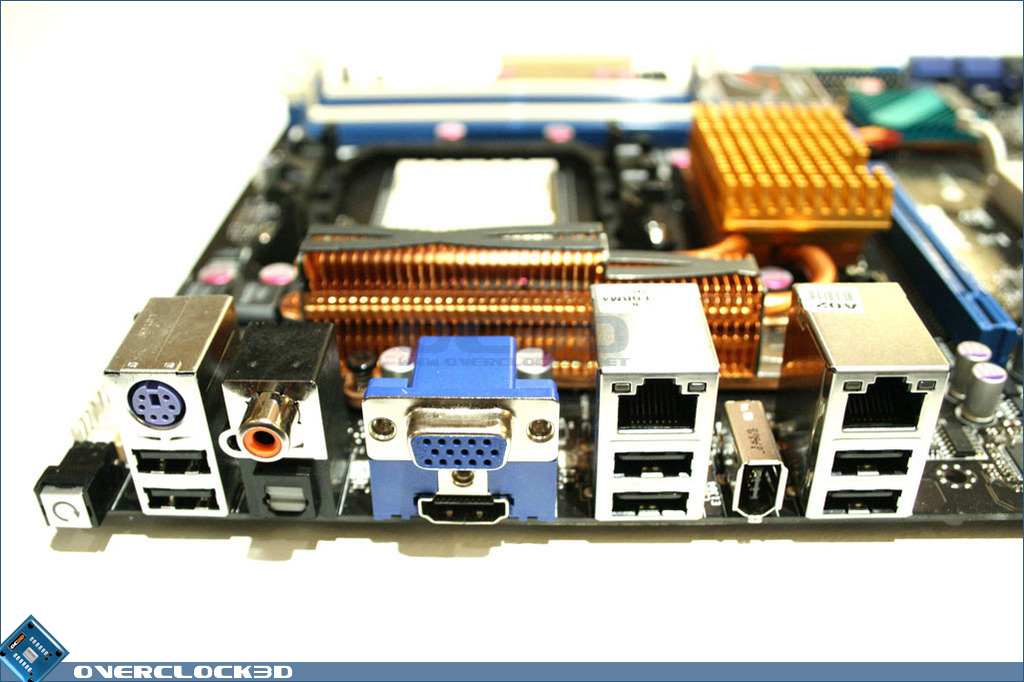Ethernet: (601, 379, 714, 448), (837, 372, 936, 447)
HDMI: (412, 497, 517, 530)
USB: (603, 483, 702, 524), (130, 441, 216, 478), (821, 485, 908, 520), (134, 489, 222, 515)
VGA: (406, 414, 516, 477)
